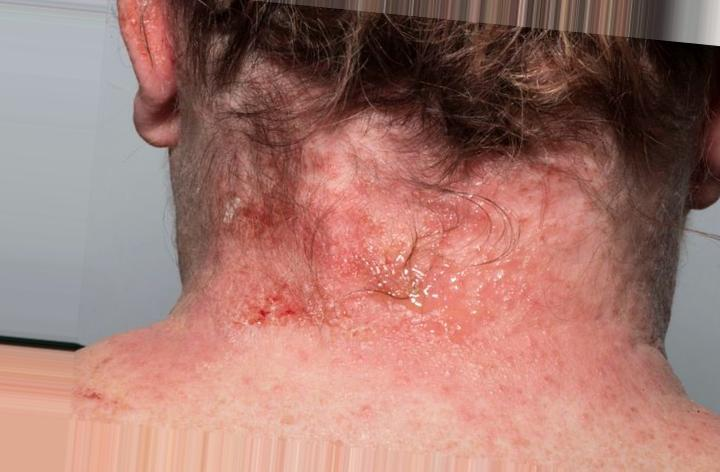Contact Dermatitis: (203, 71, 646, 354)
